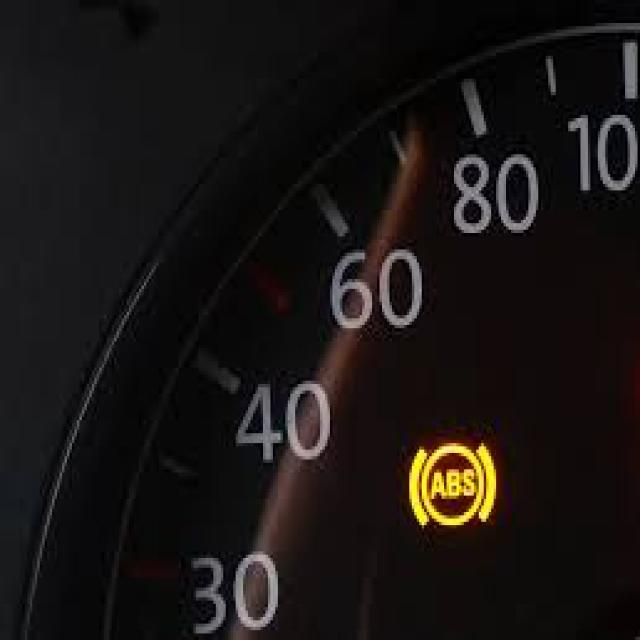kontrolka: (401, 430, 507, 538)
